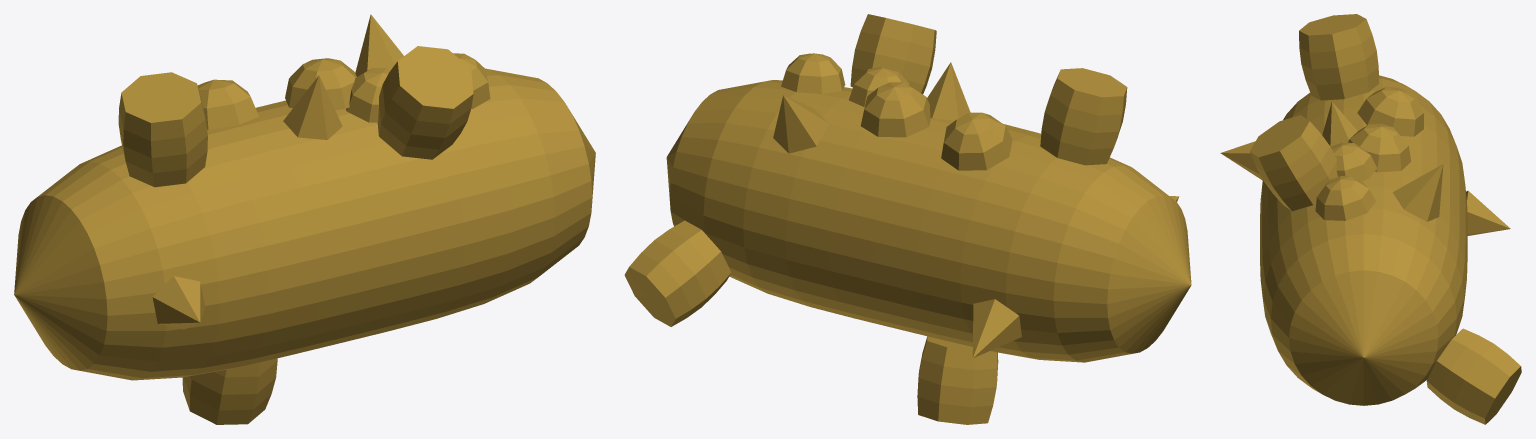
The model's file is exp1_barrel_asym_02.glb.
3 views of the same model, side by side, from view 1: azimuth 30°, elevation 25°; view 2: azimuth 150°, elevation 25°; view 3: azimuth 270°, elevation 25° (orthographic). The views are drawn at different scales.
Parts seen in each view (by area): view 1: exp1_barrel_asym_02; view 2: exp1_barrel_asym_02; view 3: exp1_barrel_asym_02.
Boxes of the visible parts, x1,y1,x2,y2 form: exp1_barrel_asym_02: (14,14,595,424); exp1_barrel_asym_02: (624,14,1191,424); exp1_barrel_asym_02: (1220,14,1521,424).
Size of the model in its own units: 3.5 by 2.19 by 1.89.
